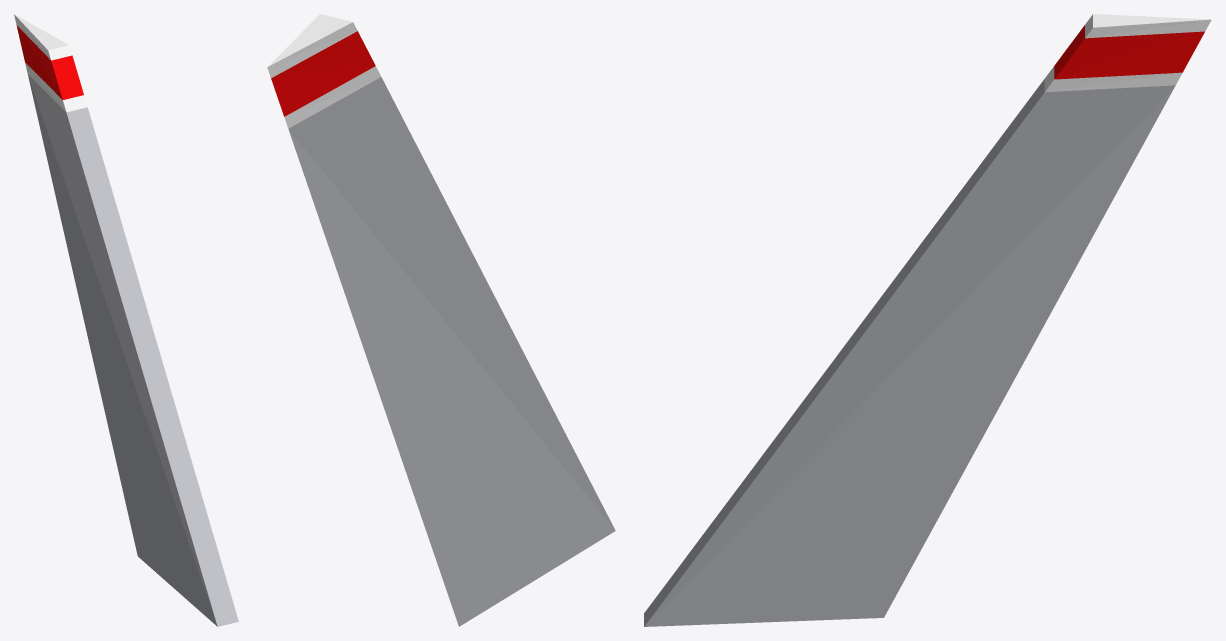
Rendered from cold_war_planes_f_16a_15_52nd_surf_rudder.gltf.
The picture shows the model from 3 angles, left to right: view 1: azimuth 30°, elevation 25°; view 2: azimuth 150°, elevation 25°; view 3: azimuth 270°, elevation 25°; orthographic projection. The views are drawn at different scales.
Parts seen in each view (by area): view 1: 0_0_#8f929a, 0_1_#ff0000, 0_2_#ffffff; view 2: 0_0_#8f929a, 0_1_#ff0000, 0_2_#ffffff; view 3: 0_0_#8f929a, 0_1_#ff0000, 0_2_#ffffff.
Boxes of the visible parts, x1,y1,x2,y2 form: 0_0_#8f929a: [27, 74, 238, 626]; 0_1_#ff0000: [16, 25, 83, 99]; 0_2_#ffffff: [14, 14, 87, 112]; 0_0_#8f929a: [288, 77, 615, 626]; 0_1_#ff0000: [271, 31, 375, 116]; 0_2_#ffffff: [267, 14, 381, 128]; 0_0_#8f929a: [644, 79, 1175, 626]; 0_1_#ff0000: [1054, 25, 1204, 79]; 0_2_#ffffff: [1044, 14, 1211, 92].
Size of the model in its own units: 0.092 by 1.87 by 1.6.
